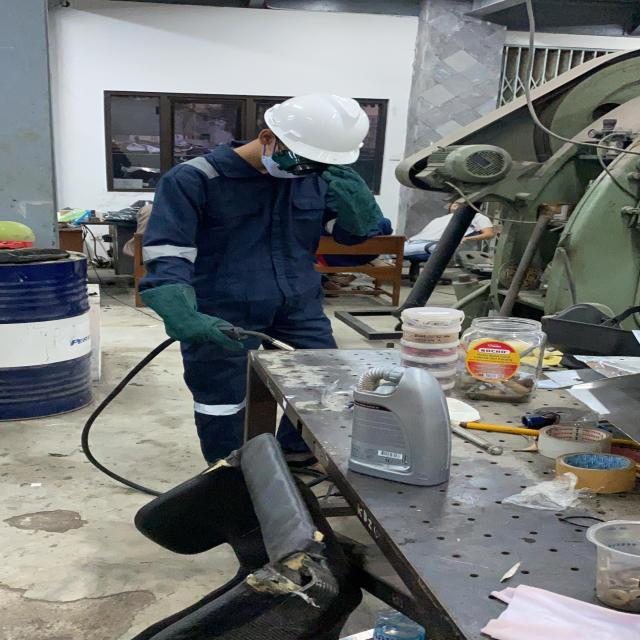glasses: (268, 146, 336, 177)
